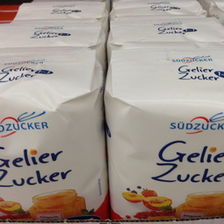sugar: (102, 43, 224, 220), (1, 43, 108, 224)
